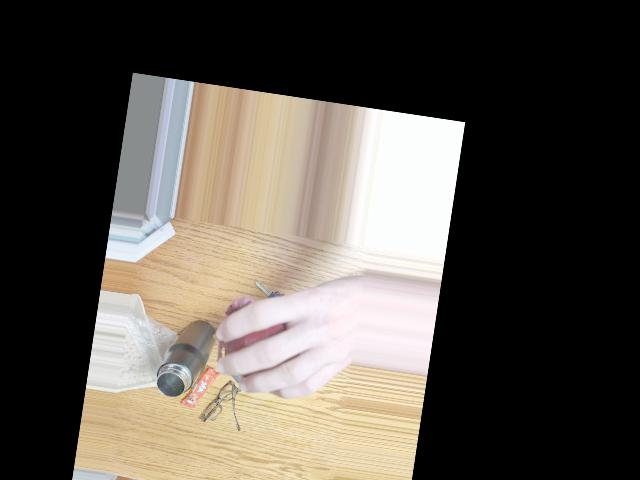onion: (227, 294, 306, 395)
